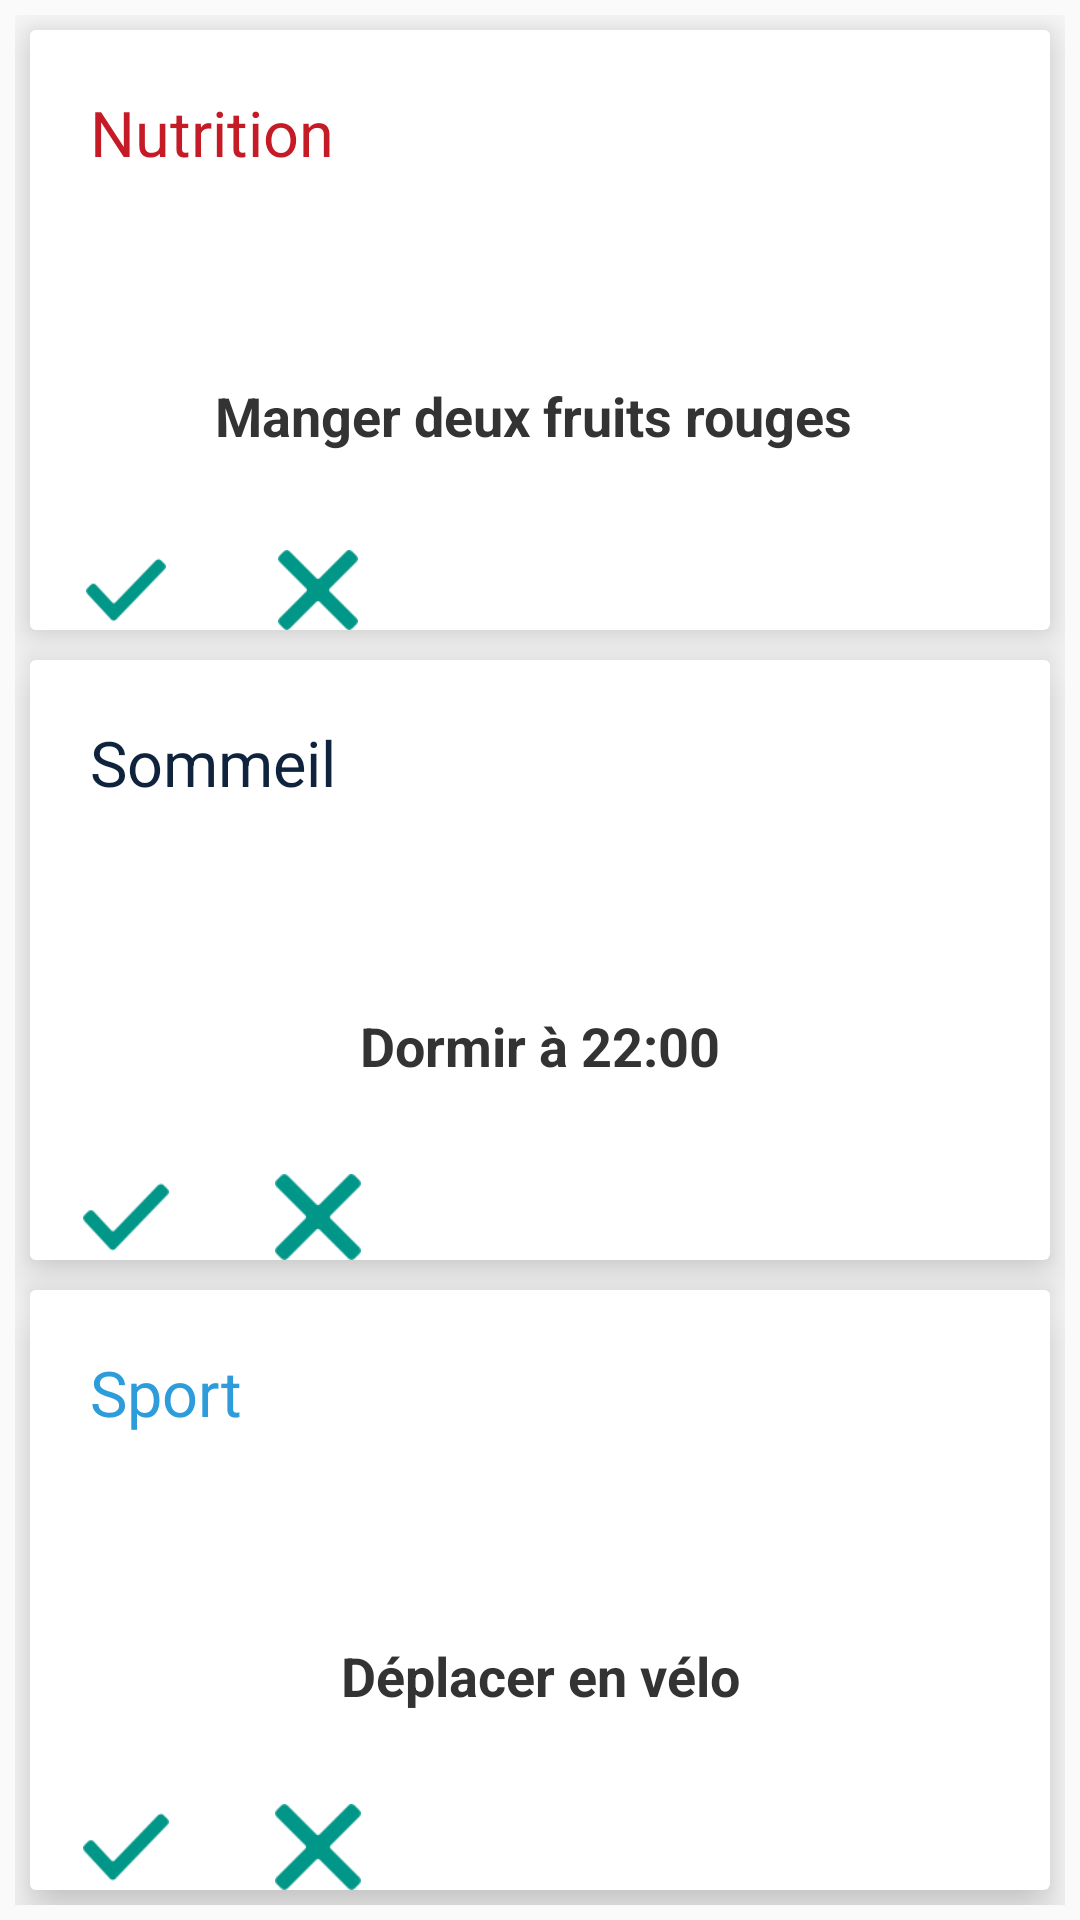

Locate icon controls on the screen. Image size 1080px×1920px, boxes as {"x1": x1, "y1": y1, "x2": x2, "y2": y2}.
cancel: {"x1": 278, "y1": 550, "x2": 358, "y2": 630}, {"x1": 275, "y1": 1174, "x2": 361, "y2": 1260}, {"x1": 275, "y1": 1804, "x2": 361, "y2": 1890}
checked: {"x1": 86, "y1": 558, "x2": 166, "y2": 622}, {"x1": 83, "y1": 1183, "x2": 169, "y2": 1251}, {"x1": 83, "y1": 1813, "x2": 169, "y2": 1881}
